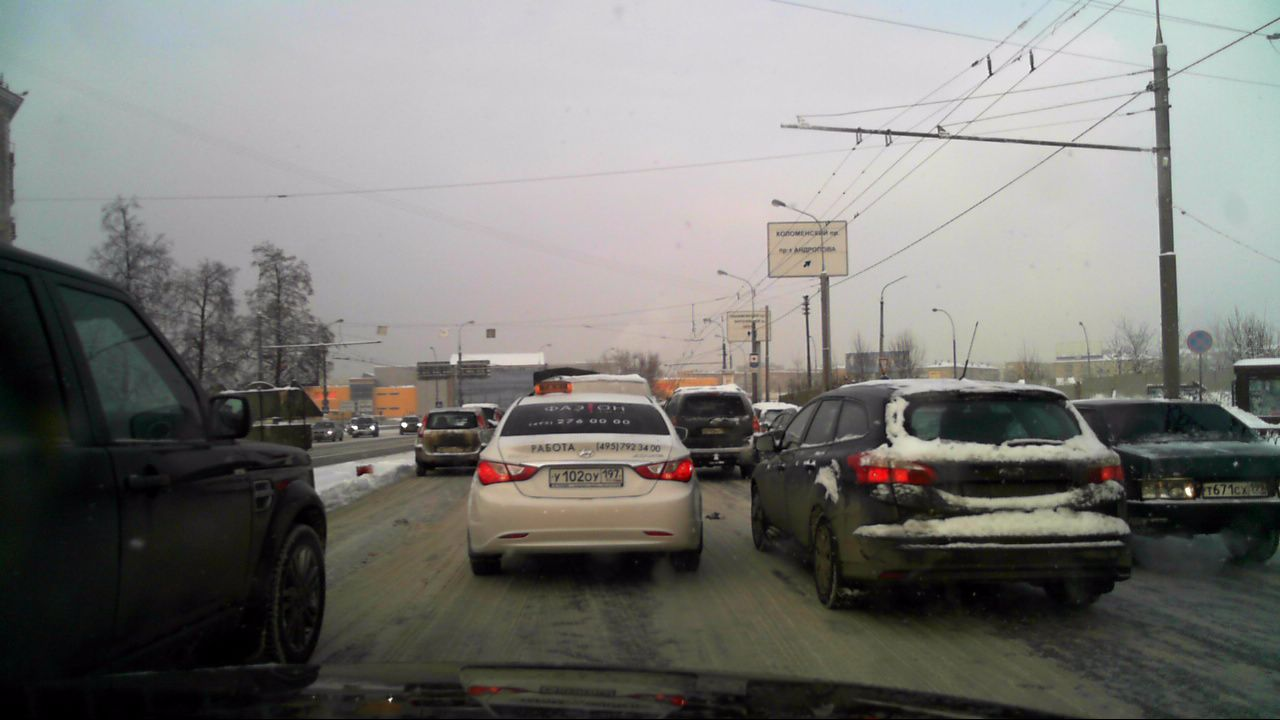No Parking: (1182, 325, 1211, 358)
